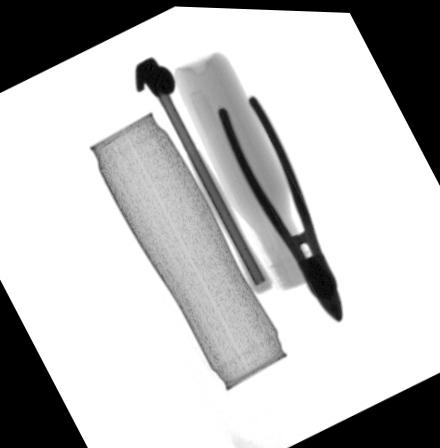Hammer: (135, 54, 274, 293)
Pliers: (219, 92, 343, 320)
